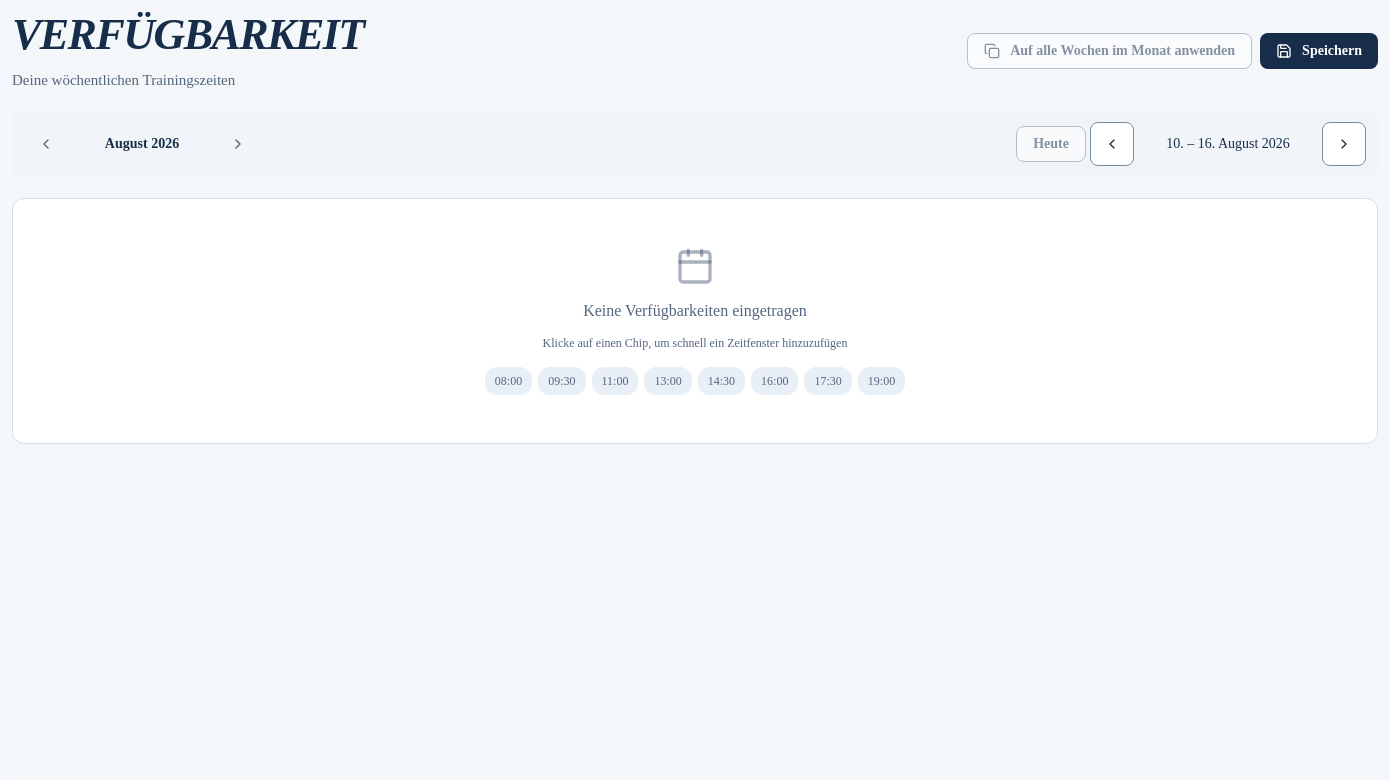
Test: TrainerAvailabilityManager (integration) › clicking a preset chip in the empty state adds a slot and transitions to grid view
Expected: the text "Keine Verfügbarkeiten eingetragen" is shown, [583,302,807,319]
// Click the "08:00" chip button in the empty state
Click the button "08:00" at point(508, 381), box [485,367,532,395]
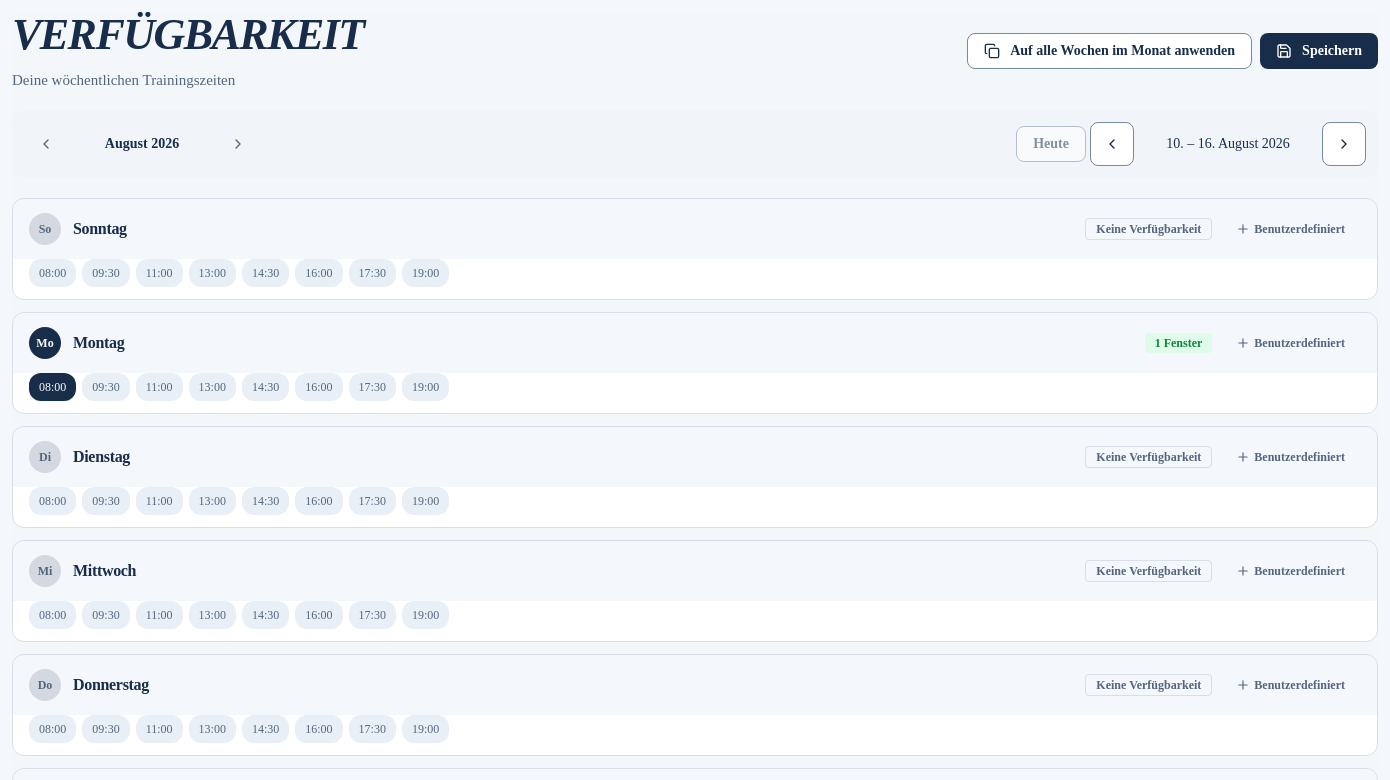
Expected: the text "1 Fenster" is shown, [1145,333,1212,353]
Expected: the text "Keine Verfügbarkeiten eingetragen" is gone
